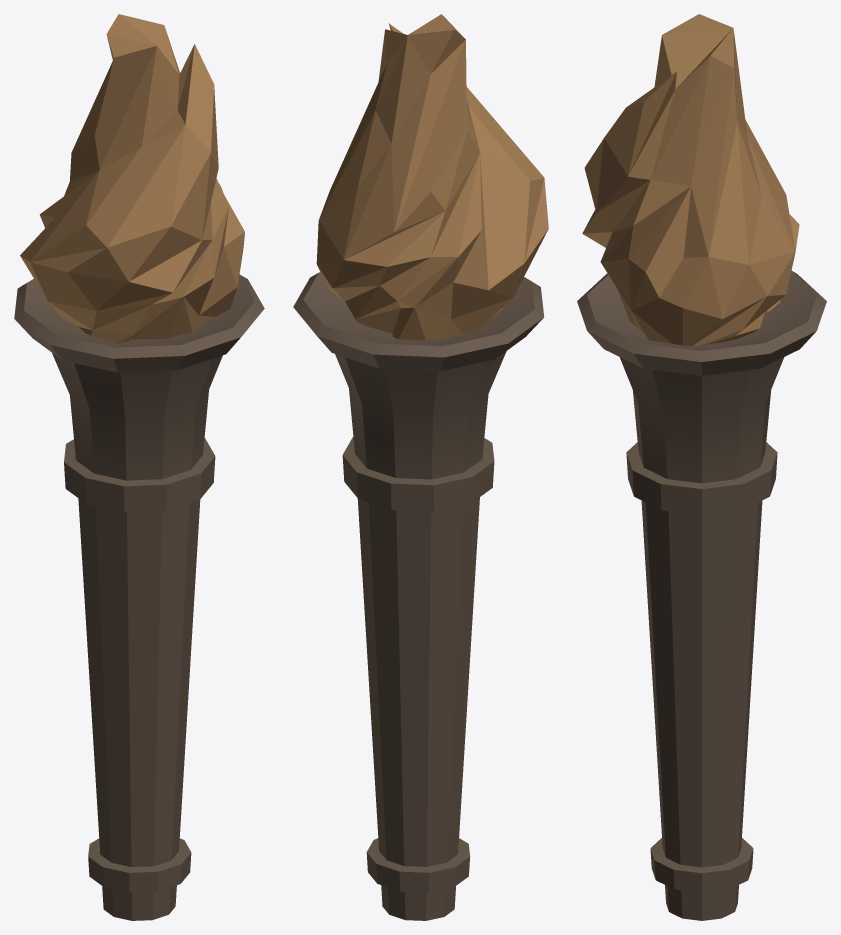
File: LitTorch.fbx
3 renders of one model, left to right at view 1: azimuth 30°, elevation 25°; view 2: azimuth 150°, elevation 25°; view 3: azimuth 270°, elevation 25°, orthographic.
Visible parts, largest first — view 1: LitTorch; view 2: LitTorch; view 3: LitTorch.
Part boxes in pixels (box(x1,y1,x2,y2)): LitTorch: box(14, 14, 264, 920); LitTorch: box(293, 14, 548, 920); LitTorch: box(577, 14, 826, 920).
Bounding box in the file's own units: 15.52 × 60.56 × 15.67.
